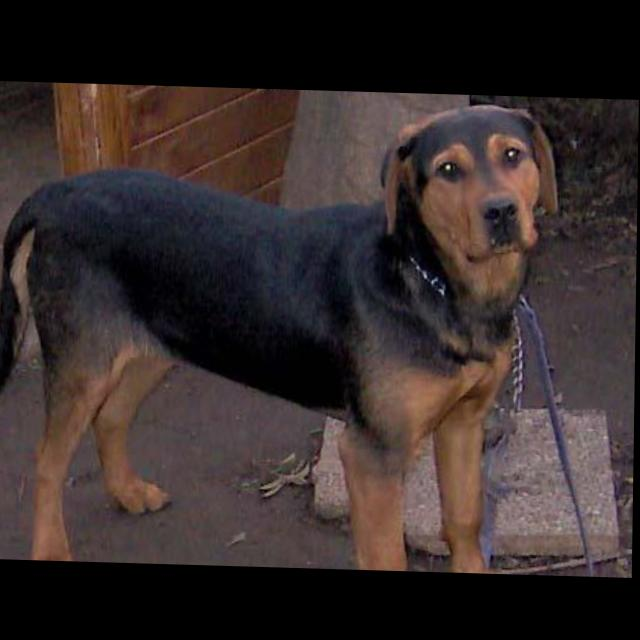rottweiler: (1, 90, 563, 573)
